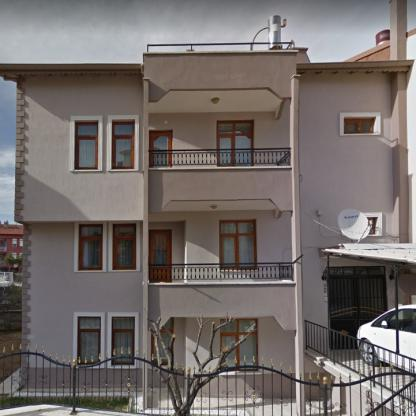door: (326, 266, 386, 349), (149, 228, 171, 281), (149, 128, 173, 166)
window: (219, 318, 258, 370), (220, 219, 258, 269), (106, 311, 138, 369), (217, 120, 253, 166), (73, 312, 103, 366), (75, 222, 105, 271), (110, 116, 137, 170), (110, 221, 138, 270), (74, 119, 98, 171), (341, 113, 380, 133)
